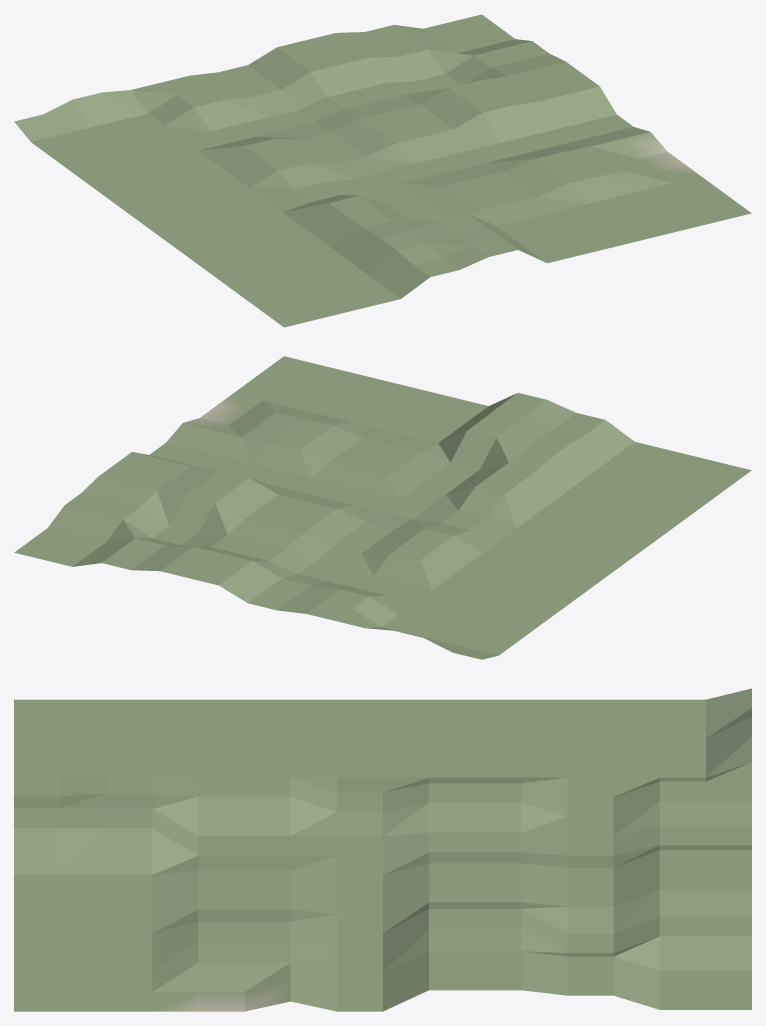
3 renders of one model, top to bottom at view 1: azimuth 30°, elevation 25°; view 2: azimuth 150°, elevation 25°; view 3: azimuth 270°, elevation 25°, orthographic. The views are drawn at different scales.
Bounding box in the file's own units: 32 × 1.34 × 32.
